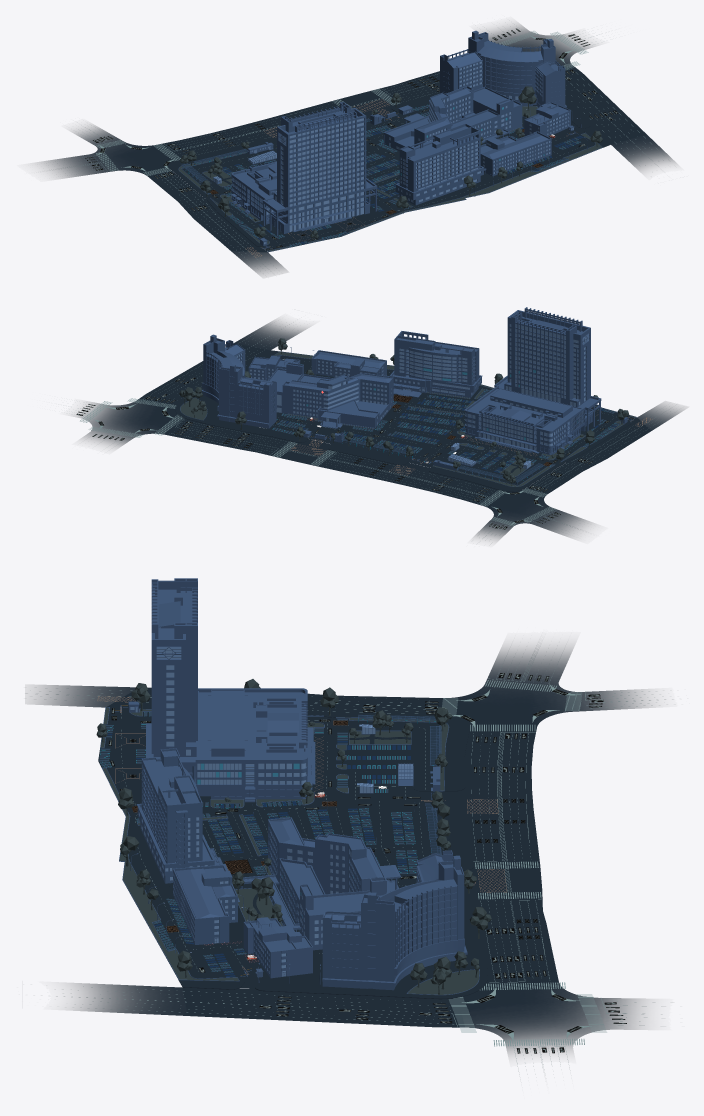
The model's file is campus-desktop-v2.glb.
The picture shows the model from 3 angles, top to bottom: view 1: azimuth 30°, elevation 25°; view 2: azimuth 150°, elevation 25°; view 3: azimuth 270°, elevation 25°; orthographic projection. The views are drawn at different scales.
Parts seen in each view (by area): view 1: campus-building-111, campus-detail-107, campus-window-112, campus-detail-108, campus-landscape-116, campus-detail-120, campus-landscape-115, campus-detail-118, campus-detail-84, campus-detail-80; view 2: campus-building-111, campus-detail-107, campus-detail-108, campus-window-112, campus-landscape-116, campus-detail-120, campus-detail-118, campus-detail-84, campus-landscape-115, campus-detail-80, campus-detail-103, campus-detail-105; view 3: campus-detail-107, campus-building-111, campus-detail-108, campus-landscape-116, campus-detail-120, campus-window-112, campus-detail-118, campus-detail-84, campus-landscape-115, campus-detail-80, campus-detail-103, campus-detail-101.
Part boxes in pixels (x1,y1,x2,y2): campus-building-111: (213,30,574,245); campus-detail-107: (148,65,646,252); campus-window-112: (213,61,573,244); campus-detail-108: (38,24,675,275); campus-landscape-116: (179,86,602,251); campus-detail-120: (67,30,657,266); campus-landscape-115: (178,106,602,252); campus-detail-118: (85,28,617,211); campus-detail-84: (208,105,580,246); campus-detail-80: (223,114,583,244); campus-building-111: (201,307,627,470); campus-detail-107: (137,343,651,505); campus-detail-108: (76,320,684,540); campus-window-112: (236,324,588,468); campus-landscape-116: (179,338,635,486); campus-detail-120: (78,324,659,536); campus-detail-118: (76,377,592,529); campus-detail-84: (273,390,618,471); campus-landscape-115: (180,351,636,486); campus-detail-80: (280,396,616,472); campus-detail-103: (342,437,543,484); campus-detail-105: (341,437,544,484); campus-detail-107: (98,687,558,1027); campus-building-111: (128,578,467,990); campus-detail-108: (30,646,649,1054); campus-landscape-116: (96,679,491,994); campus-detail-120: (46,651,665,1071); campus-window-112: (130,647,418,976); campus-detail-118: (259,673,626,1053); campus-detail-84: (99,712,416,972); campus-landscape-115: (100,707,479,995); campus-detail-80: (107,733,416,977); campus-detail-103: (358,714,441,854); campus-detail-101: (97,696,507,974).
Size of the model in its own units: 45.13 by 7.35 by 27.11.
53 materials, 21 textured.
